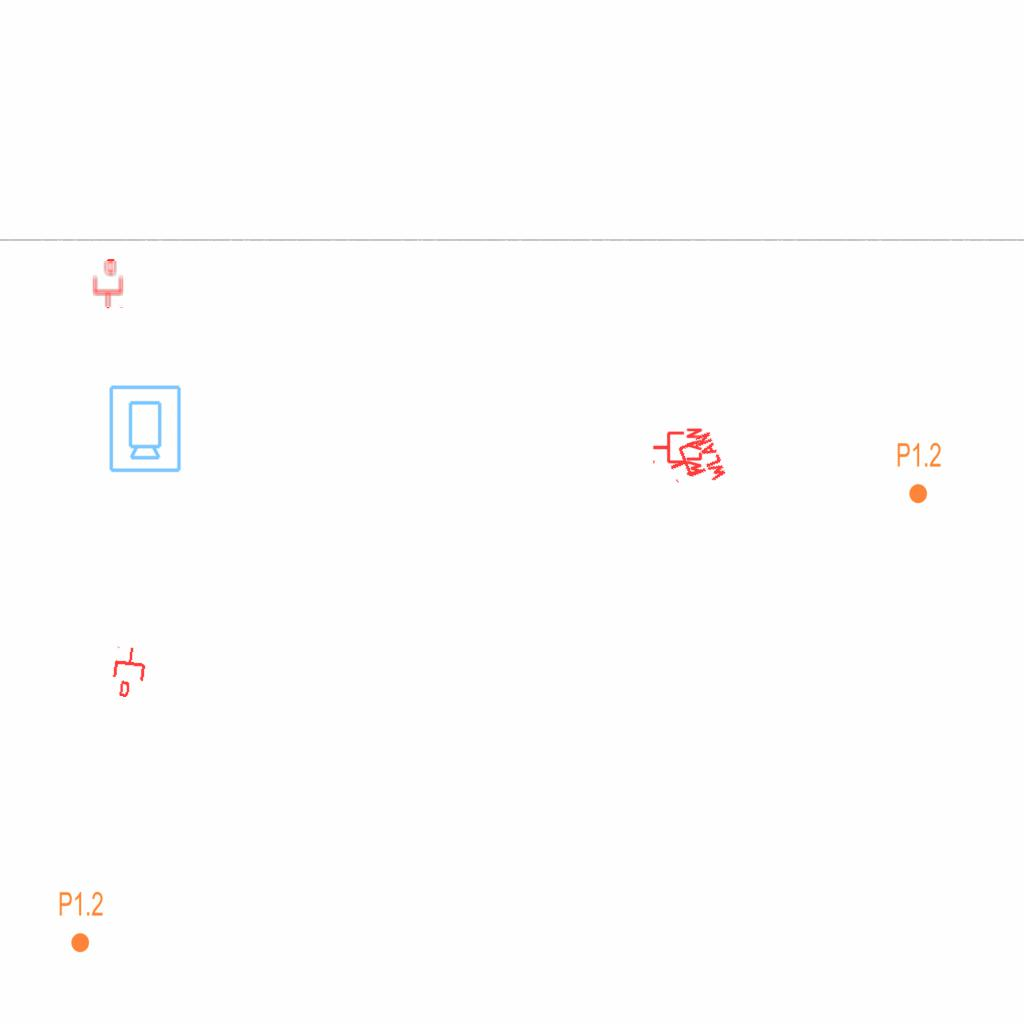Datenanschluss_einfach: (109, 645, 149, 699), (91, 259, 125, 309)
Downlight_LED_Einbauleuchten_Flur: (58, 890, 104, 954), (896, 441, 942, 505)
KFO_Kamera_mit_Festobjektiv: (106, 383, 183, 474)
WLAN: (661, 429, 729, 497), (651, 426, 703, 478)
